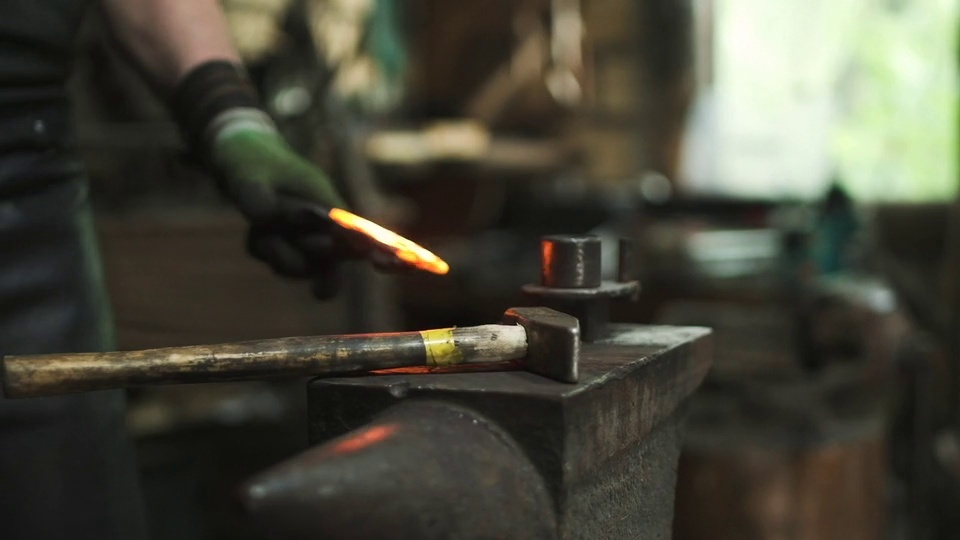hammer: (5, 303, 583, 391)
